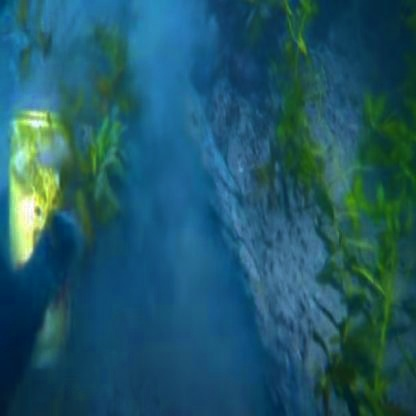can: (5, 107, 78, 399)
